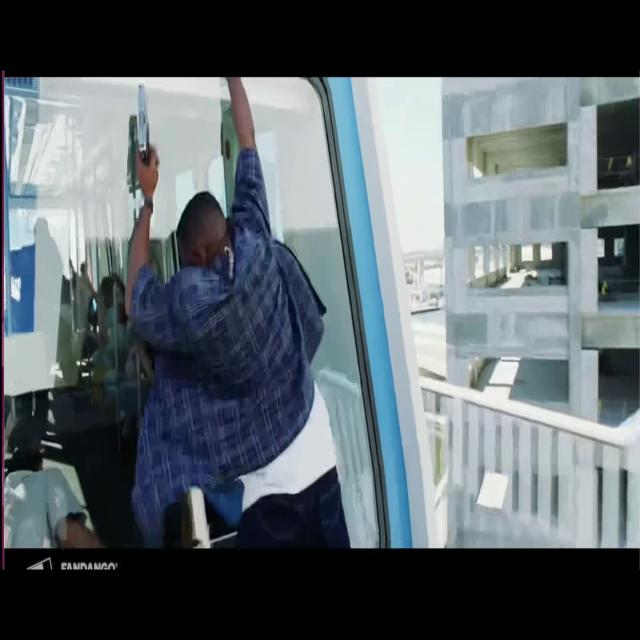weapons: (129, 73, 165, 197)
